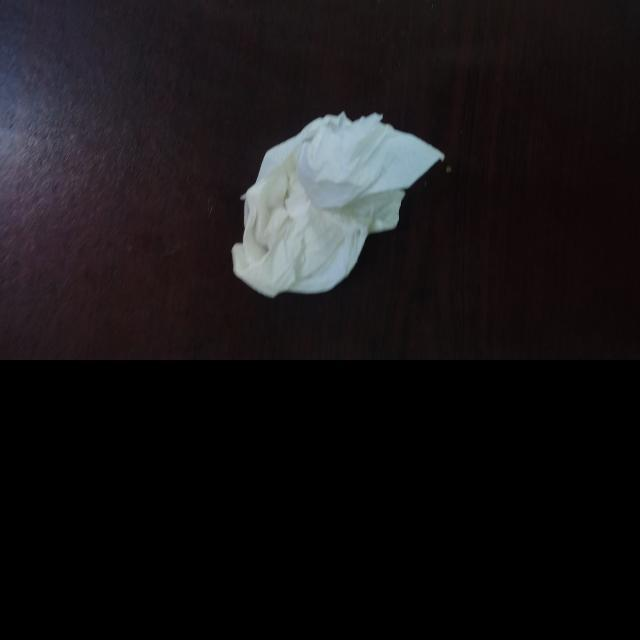kitchen paper: (224, 110, 446, 302)
